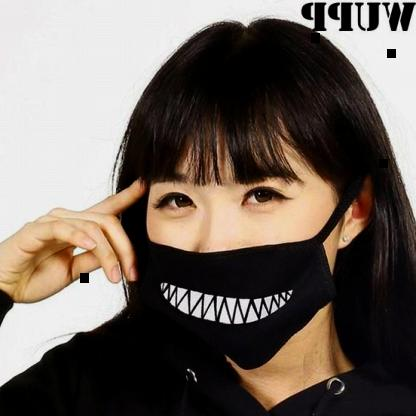mask: (85, 19, 394, 368)
